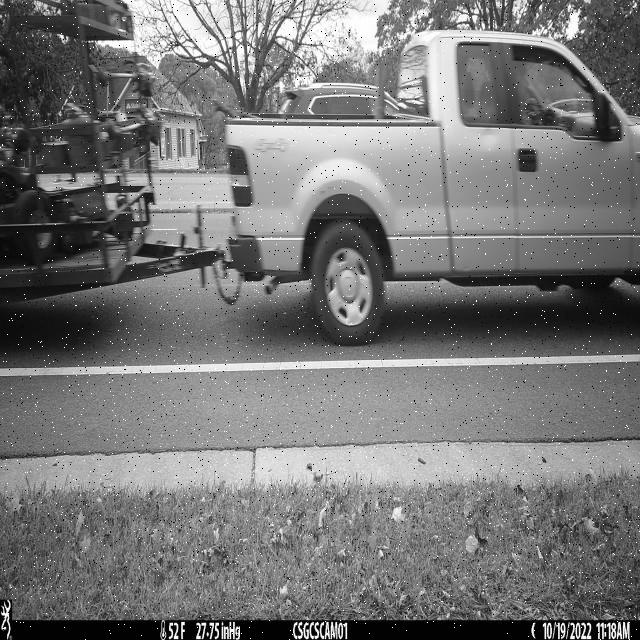Pickup: (226, 30, 640, 348)
